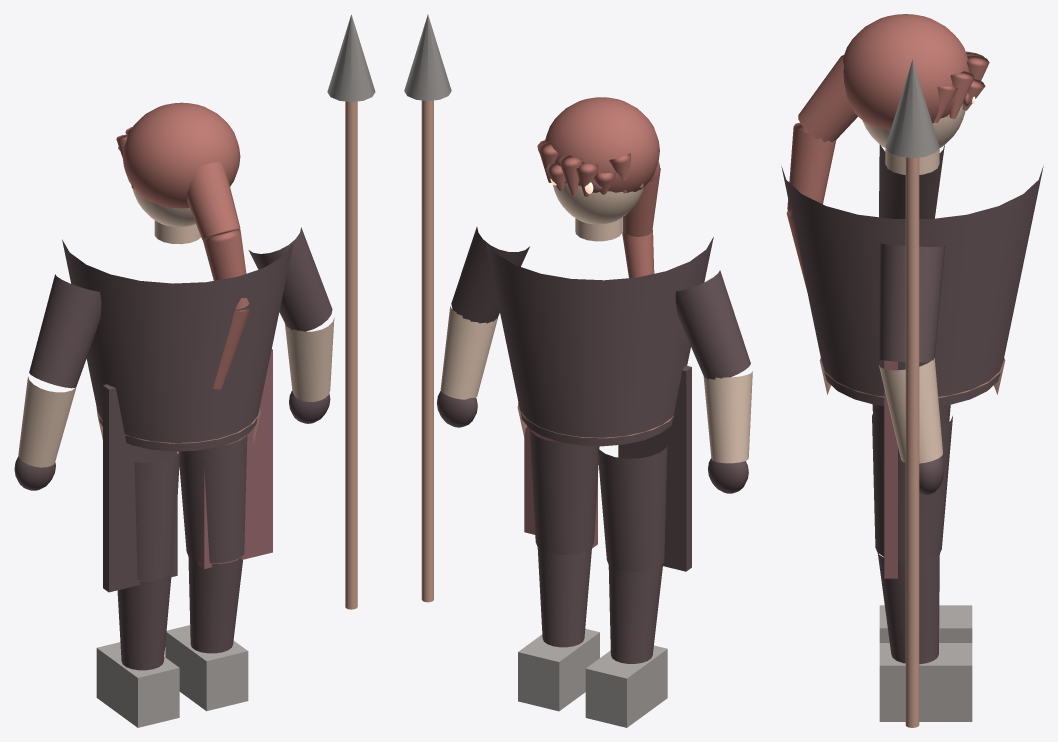
Rendered from ann-procedural-v1.glb.
3 renders of one model, left to right at view 1: azimuth 30°, elevation 25°; view 2: azimuth 150°, elevation 25°; view 3: azimuth 270°, elevation 25°, orthographic. The views are drawn at different scales.
Visible parts, largest first — view 1: Outfit_Torso, Hair_Cap, Body_Thigh_R, Outfit_CoatTail_L, Weapon_SpearShaft, Body_UpperArm_L, Outfit_Boot_L, Outfit_CoatTail_R, Body_Thigh_L, Outfit_Boot_R, Body_Shin_R, Body_Shin_L (+11 smaller); view 2: Outfit_Torso, Body_Thigh_L, Body_Thigh_R, Hair_Cap, Weapon_SpearShaft, Outfit_CoatTail_L, Body_UpperArm_L, Outfit_Boot_L, Outfit_Boot_R, Body_Shin_R, Body_Shin_L, Body_Forearm_L (+11 smaller); view 3: Outfit_Torso, Hair_Cap, Weapon_SpearShaft, Outfit_Boot_R, Body_UpperArm_R, Body_Thigh_R, Body_Shin_R, Body_Forearm_R, Weapon_SpearHead, Hair_Ponytail_0, Hair_Ponytail_1, Body_UpperArm_L (+7 smaller).
Boxes of the visible parts, left/top/right/bottom form: Outfit_Torso: left=62, top=239, right=293, bottom=451; Hair_Cap: left=122, top=102, right=240, bottom=208; Body_Thigh_R: left=178, top=435, right=247, bottom=563; Outfit_CoatTail_L: left=103, top=384, right=177, bottom=592; Weapon_SpearShaft: left=345, top=101, right=357, bottom=609; Body_UpperArm_L: left=29, top=274, right=101, bottom=388; Outfit_Boot_L: left=96, top=642, right=179, bottom=727; Outfit_CoatTail_R: left=198, top=349, right=272, bottom=568; Body_Thigh_L: left=134, top=451, right=179, bottom=580; Outfit_Boot_R: left=165, top=625, right=248, bottom=711; Body_Shin_R: left=188, top=556, right=242, bottom=653; Body_Shin_L: left=117, top=574, right=171, bottom=670; Outfit_Torso: left=485, top=237, right=713, bottom=446; Body_Thigh_L: left=597, top=445, right=667, bottom=571; Body_Thigh_R: left=529, top=428, right=599, bottom=554; Hair_Cap: left=545, top=97, right=659, bottom=192; Weapon_SpearShaft: left=421, top=100, right=433, bottom=602; Outfit_CoatTail_L: left=618, top=365, right=691, bottom=571; Body_UpperArm_L: left=675, top=270, right=750, bottom=379; Outfit_Boot_L: left=585, top=645, right=667, bottom=727; Outfit_Boot_R: left=518, top=628, right=599, bottom=711; Body_Shin_R: left=537, top=547, right=591, bottom=647; Body_Shin_L: left=608, top=564, right=662, bottom=663; Body_Forearm_L: left=703, top=371, right=752, bottom=463; Outfit_Torso: left=781, top=166, right=1043, bottom=406; Hair_Cap: left=843, top=14, right=969, bottom=129; Weapon_SpearShaft: left=905, top=157, right=919, bottom=727; Outfit_Boot_R: left=879, top=643, right=972, bottom=721; Body_UpperArm_R: left=879, top=243, right=945, bottom=362; Body_Thigh_R: left=872, top=414, right=952, bottom=561; Body_Shin_R: left=877, top=553, right=939, bottom=664; Body_Forearm_R: left=879, top=358, right=942, bottom=463; Weapon_SpearHead: left=885, top=59, right=939, bottom=158; Hair_Ponytail_0: left=798, top=55, right=857, bottom=142; Hair_Ponytail_1: left=787, top=122, right=836, bottom=212; Body_UpperArm_L: left=879, top=144, right=944, bottom=218.
Bounding box in the file's own units: 1.17 × 2.07 × 0.68.
